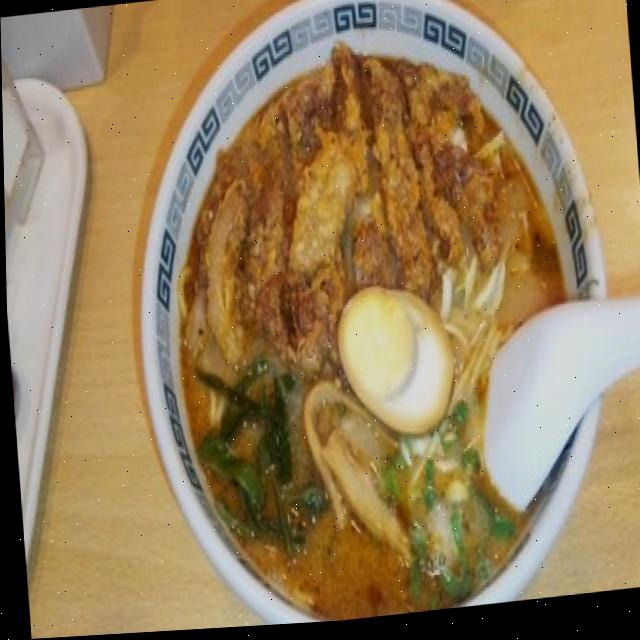面条主食: (114, 0, 640, 635)
